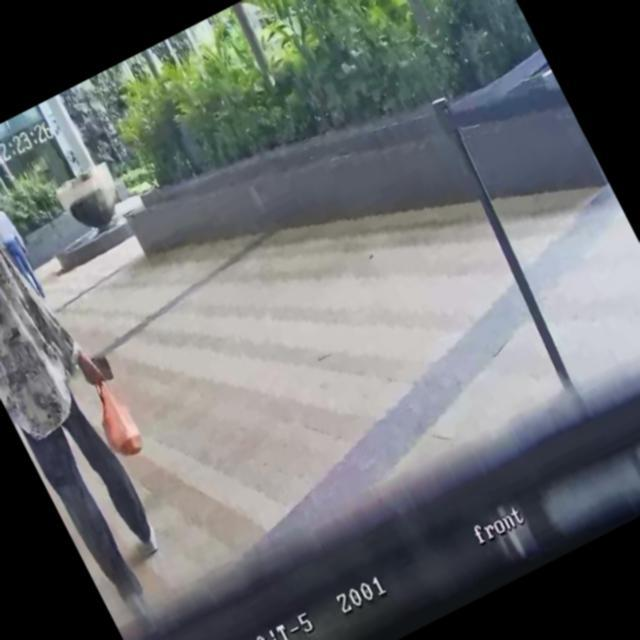person: (0, 135, 199, 611), (0, 192, 52, 304)
